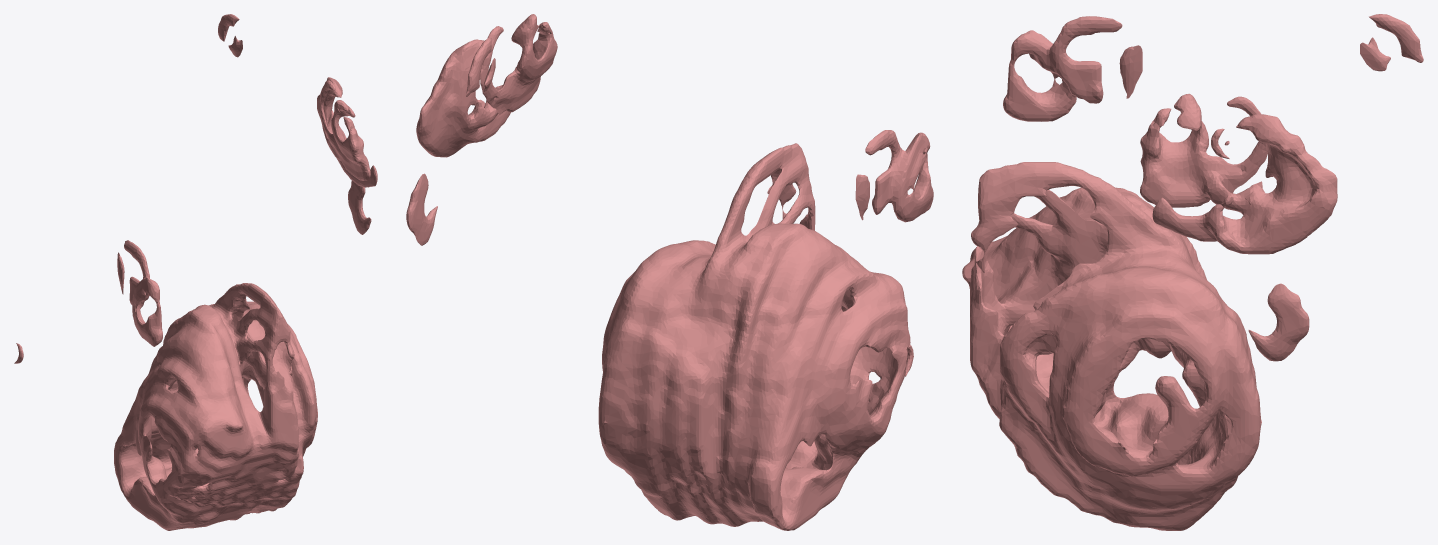
The model's file is tumor_growth.glb.
3 views of the same model, side by side, from view 1: azimuth 30°, elevation 25°; view 2: azimuth 150°, elevation 25°; view 3: azimuth 270°, elevation 25° (orthographic). The views are drawn at different scales.
Parts seen in each view (by area): view 1: world; view 2: world; view 3: world.
Part boxes in pixels (x1,y1,x2,y2): world: (14,14,377,530); world: (406,14,933,530); world: (962,14,1423,530).
Bounding box in the file's own units: 140 × 150 × 112.
